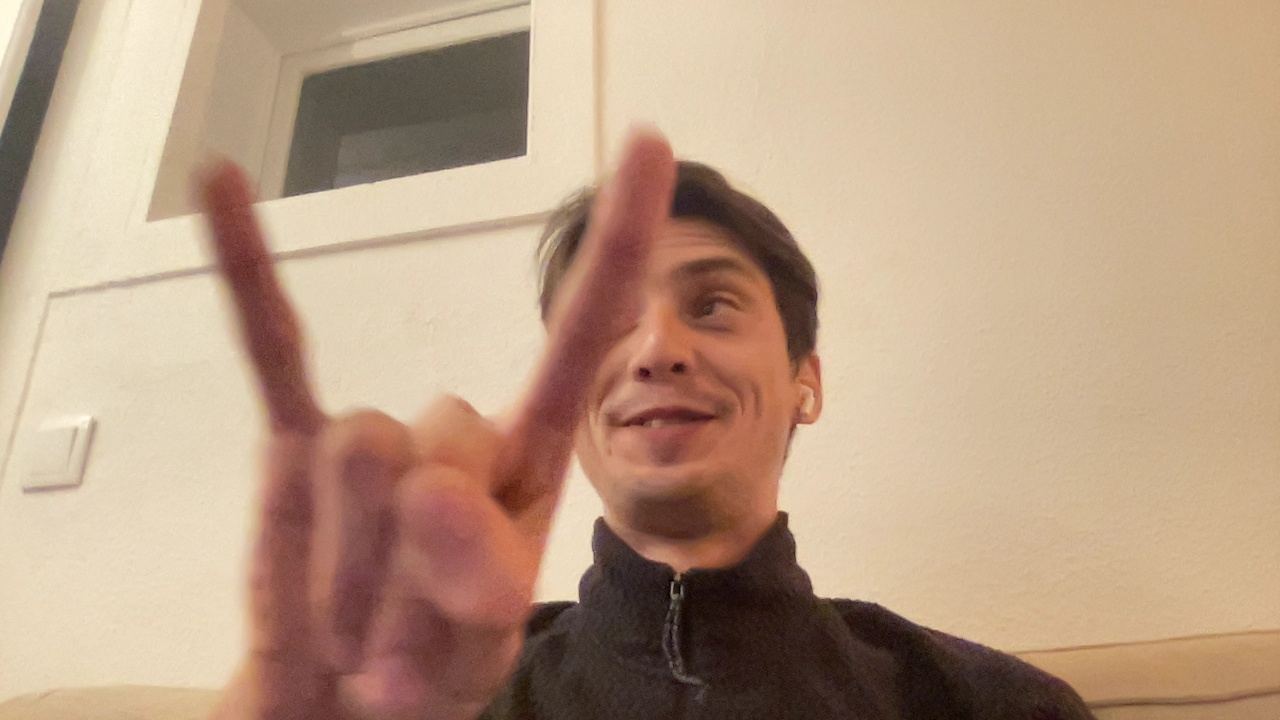I Love You: (152, 130, 700, 696)
